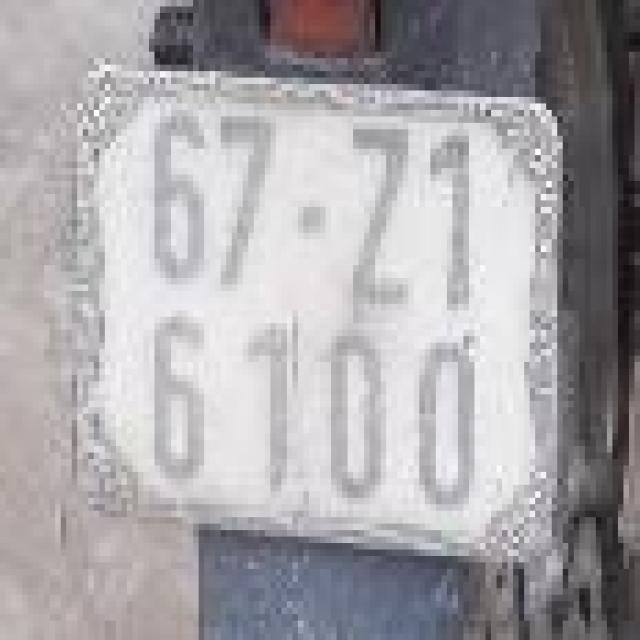0: (414, 336, 496, 524), (320, 323, 397, 511)
1: (237, 304, 309, 498), (422, 126, 494, 320)
6: (149, 103, 215, 284), (146, 307, 212, 482)
7: (218, 103, 284, 291)
Z: (348, 123, 424, 310)
